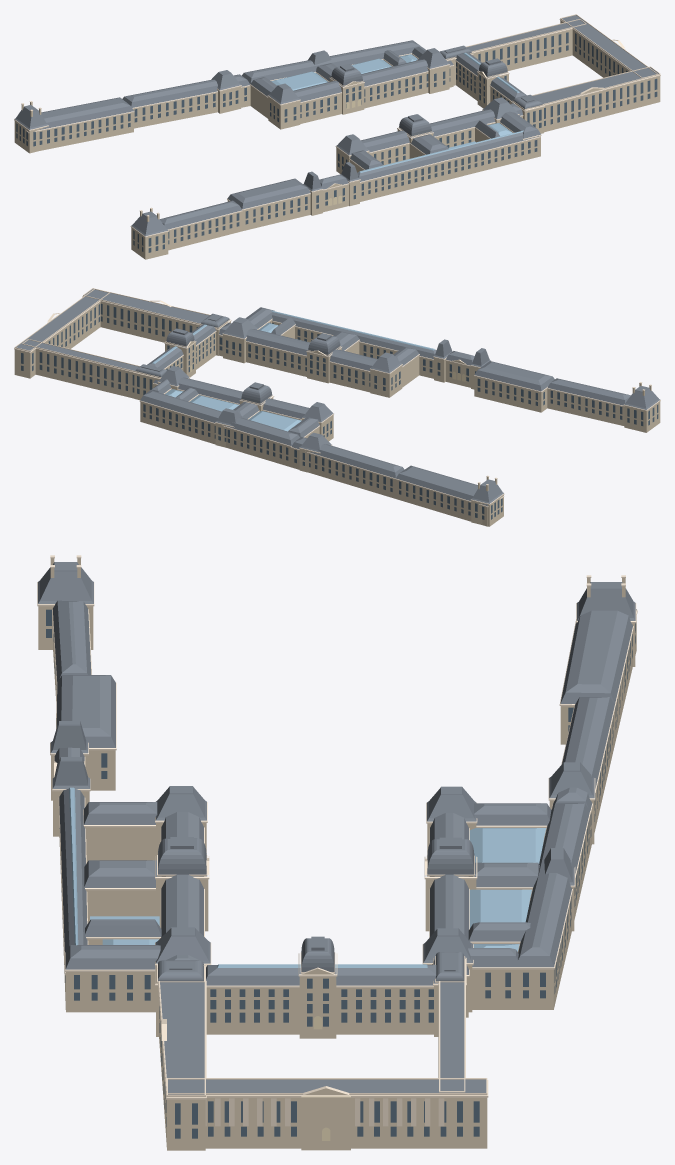
File: paris-louvre.glb
3 views of the same model, one above another, from view 1: azimuth 30°, elevation 25°; view 2: azimuth 150°, elevation 25°; view 3: azimuth 270°, elevation 25° (orthographic). The views are drawn at different scales.
Visible parts, largest first — view 1: Palais du Louvre; view 2: Palais du Louvre; view 3: Palais du Louvre.
Boxes of the visible parts, <box> form: Palais du Louvre: <box>14,14,660,259</box>; Palais du Louvre: <box>14,288,660,526</box>; Palais du Louvre: <box>37,555,637,1150</box>.
Size of the model in its own units: 673 by 51.6 by 326.
